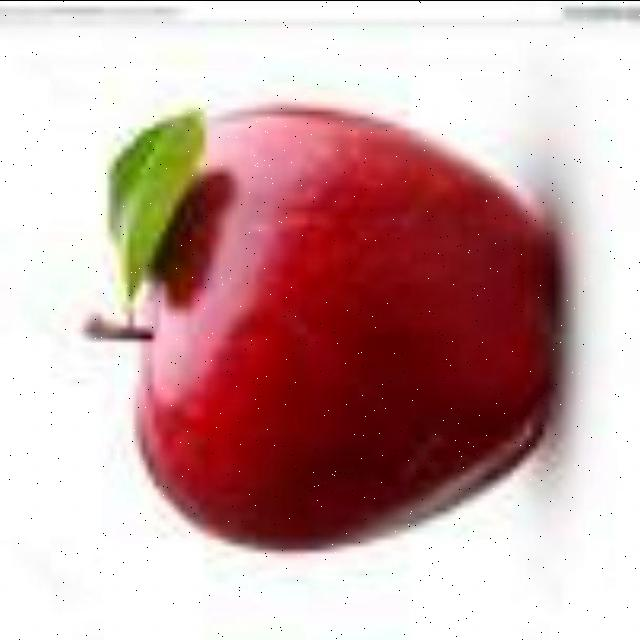HEALTHY: (98, 72, 576, 574)
